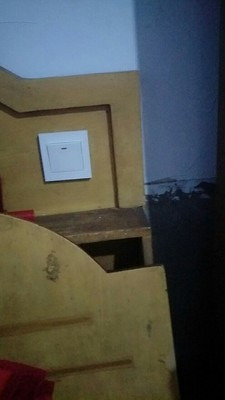switch: (41, 138, 88, 175)
